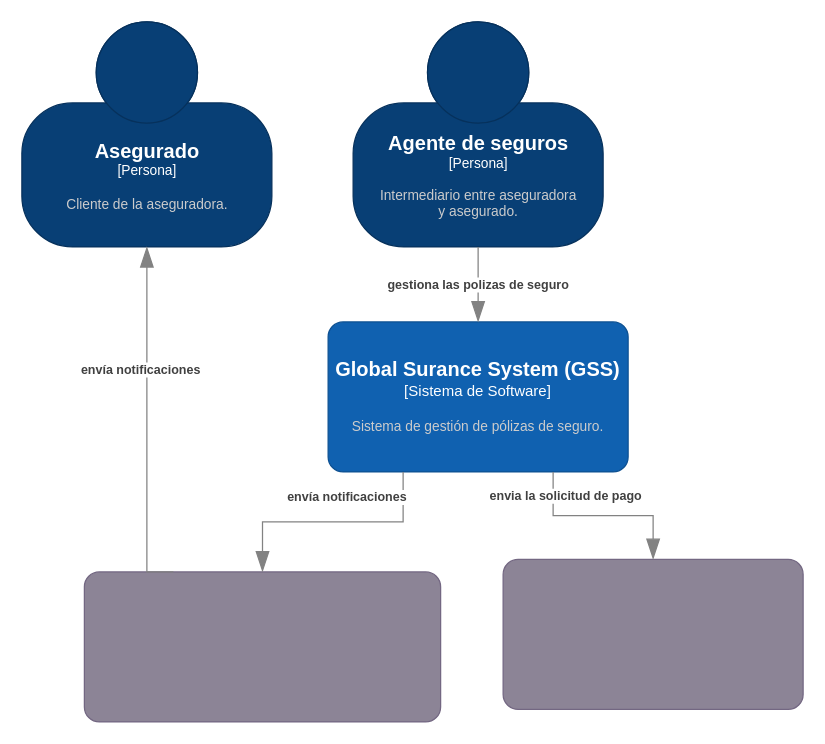
Image size: 825x744. Some labels were removed from this diagram. Each missing label, with the box of its shape:
Openpay [Sistema de Software] Procesador de servicios de pago.: (502, 558, 803, 709)
Telegram [Sistema de Software] Plataforma de mensajería y VOIP.: (83, 571, 441, 722)
